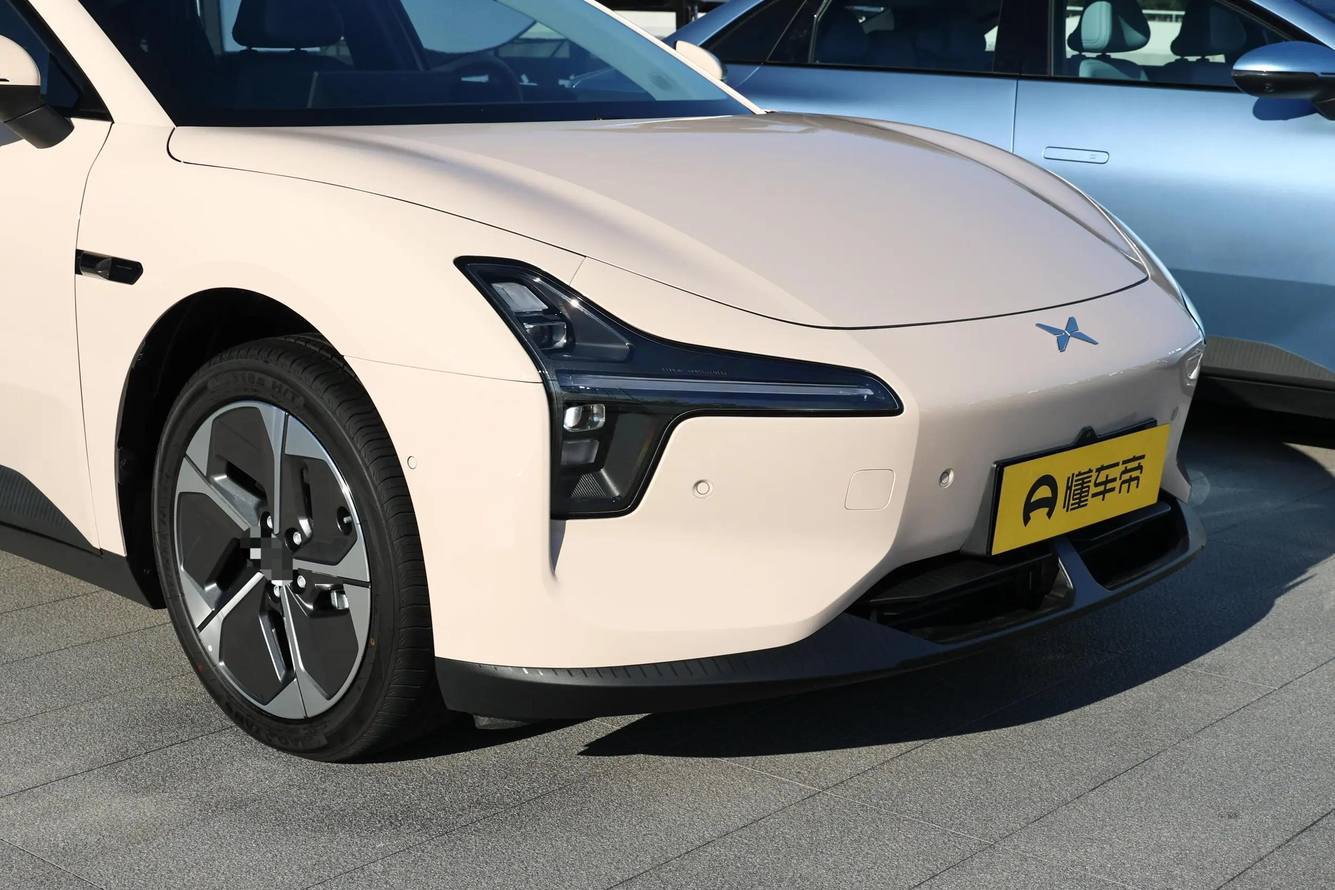XPeng Motors: (1034, 316, 1099, 352)
